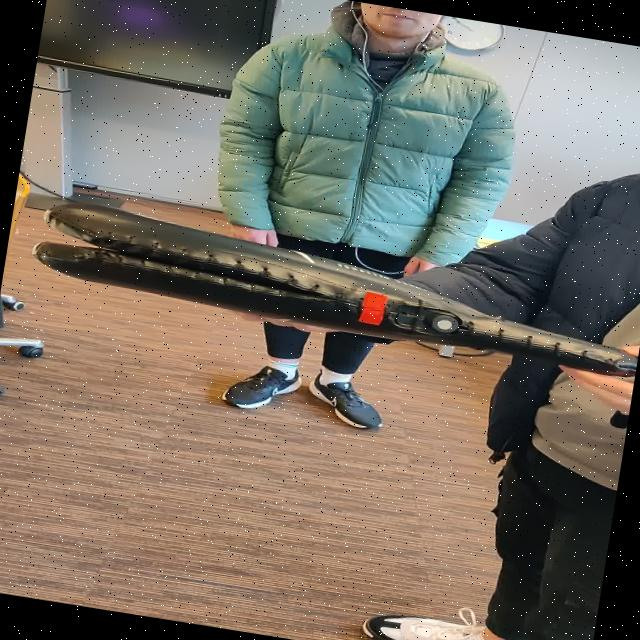paddle: (29, 201, 638, 376)
